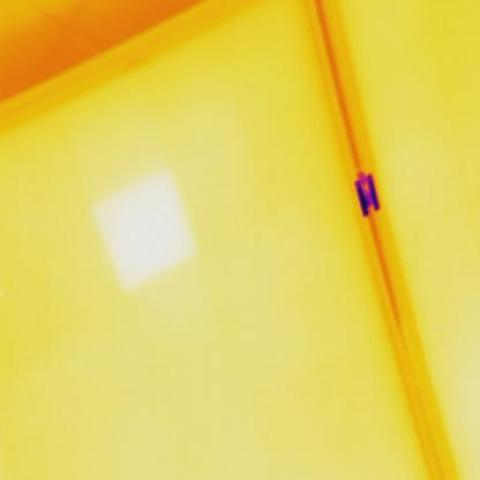fault: (87, 166, 198, 282)
